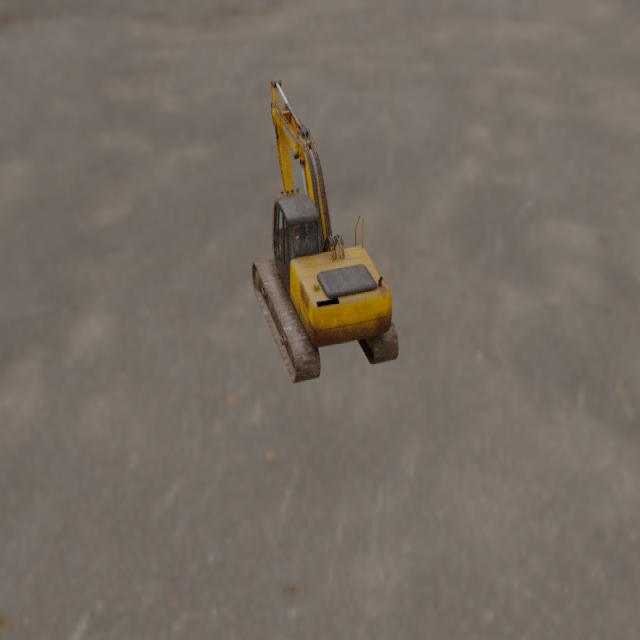excavator: (251, 77, 399, 383)
